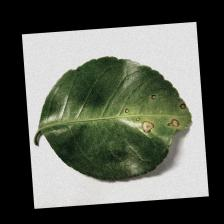canker: (119, 76, 198, 158)
